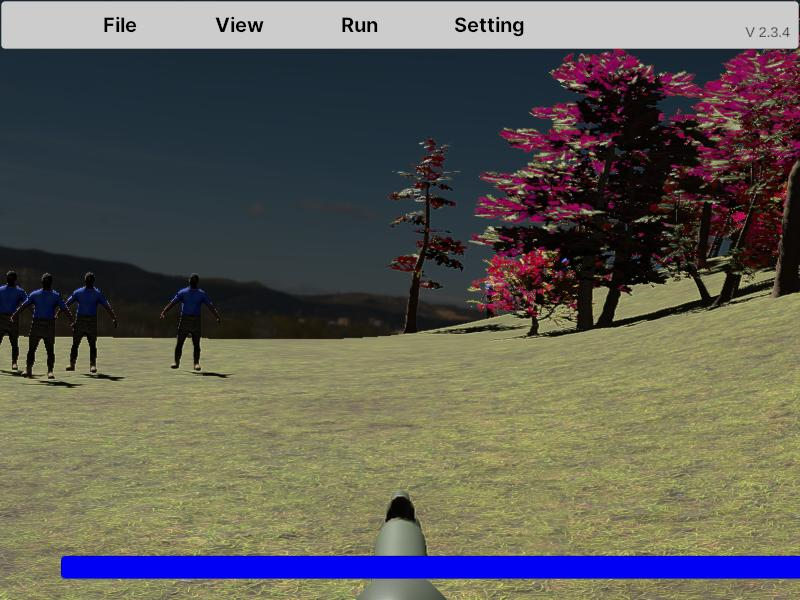Human: (7, 273, 76, 377), (53, 273, 117, 374), (159, 274, 221, 372), (0, 270, 47, 370)
